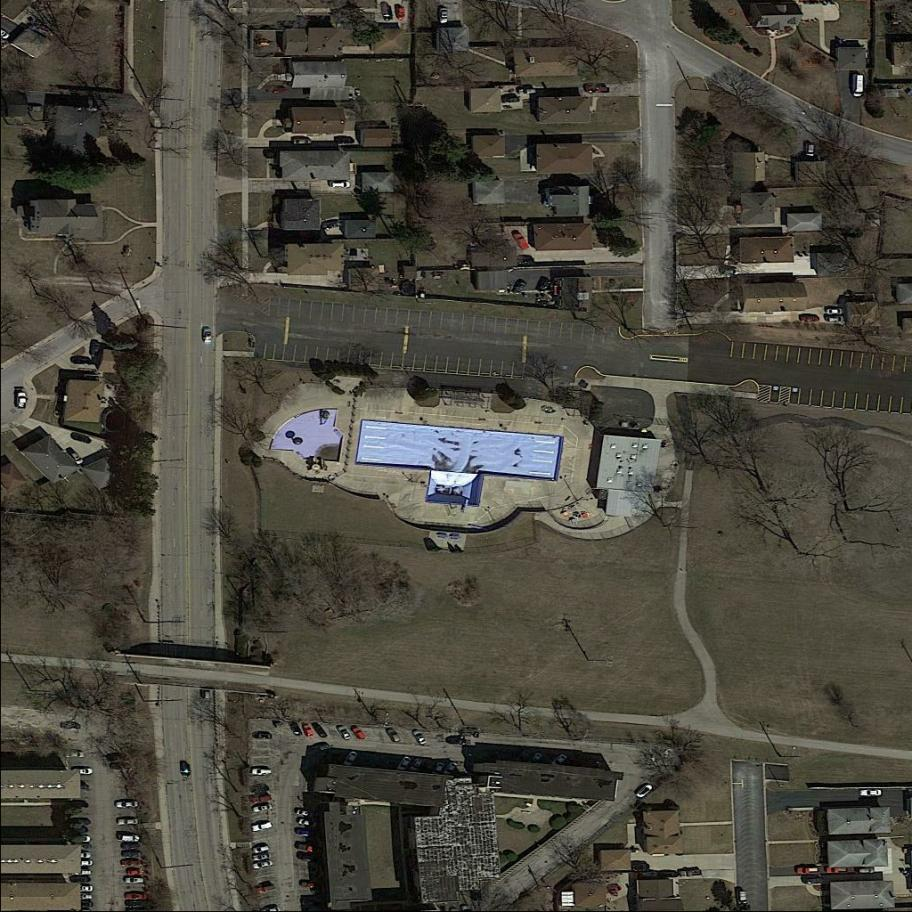small-vehicle: (512, 230, 530, 253), (534, 275, 553, 296), (634, 781, 653, 801), (395, 753, 413, 774), (69, 430, 94, 445), (295, 815, 319, 830), (335, 722, 353, 742), (550, 751, 568, 770), (69, 448, 86, 468), (311, 720, 328, 740), (343, 748, 360, 768), (411, 727, 428, 747), (350, 724, 367, 744), (851, 73, 864, 99), (294, 827, 318, 840), (321, 219, 345, 232), (527, 751, 544, 769), (250, 820, 273, 833), (511, 278, 527, 296), (825, 864, 851, 875), (297, 852, 320, 864), (249, 783, 270, 796), (386, 726, 401, 744), (295, 841, 317, 853), (442, 761, 459, 776), (299, 879, 320, 891), (289, 719, 303, 737), (109, 760, 131, 771), (251, 803, 273, 814), (15, 391, 27, 411), (256, 883, 276, 895), (253, 730, 273, 742), (409, 757, 424, 773), (252, 859, 273, 870), (249, 794, 272, 804), (859, 788, 882, 798), (250, 767, 273, 777), (584, 85, 609, 94), (432, 760, 445, 777), (514, 257, 534, 268), (60, 720, 82, 730), (107, 752, 129, 762), (312, 742, 330, 754), (115, 800, 139, 809), (295, 808, 314, 819), (252, 844, 271, 855), (302, 722, 315, 738), (329, 180, 352, 189), (201, 327, 213, 344), (180, 762, 191, 780), (720, 266, 738, 277), (382, 3, 393, 21), (802, 876, 826, 884), (502, 95, 521, 105), (639, 871, 658, 881), (126, 900, 147, 909), (69, 818, 90, 827), (117, 818, 138, 827), (628, 862, 649, 871), (438, 7, 449, 24), (804, 142, 815, 159), (118, 834, 141, 842), (680, 869, 703, 877), (658, 871, 678, 880), (70, 875, 92, 883), (738, 891, 748, 908), (69, 825, 90, 833), (795, 867, 819, 874), (202, 684, 211, 702), (253, 852, 271, 861), (857, 865, 875, 874), (126, 892, 146, 900), (71, 835, 91, 843), (800, 314, 820, 322), (77, 883, 94, 892), (121, 859, 140, 867), (335, 137, 354, 145), (65, 751, 84, 759), (74, 767, 93, 775), (71, 843, 92, 850), (124, 877, 145, 884), (518, 88, 538, 95), (293, 138, 313, 145), (825, 315, 845, 322), (75, 900, 94, 907), (120, 843, 139, 850), (122, 851, 141, 858), (72, 852, 91, 859), (826, 308, 845, 315), (75, 860, 93, 867), (74, 869, 92, 876), (127, 868, 142, 876), (397, 6, 405, 21), (76, 893, 91, 900)
